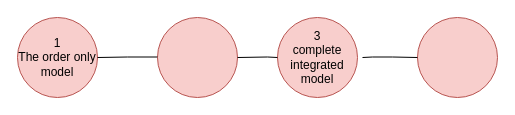
Some shapes in this 515 by 115 pixel diagram are drawn without their labels. Here are the shapes that lost their labels. From the top down, the centre of each, then its label:
(x=197, y=57): 2 The order and dilivery model
(x=457, y=57): 4 Business model for aggregraters
